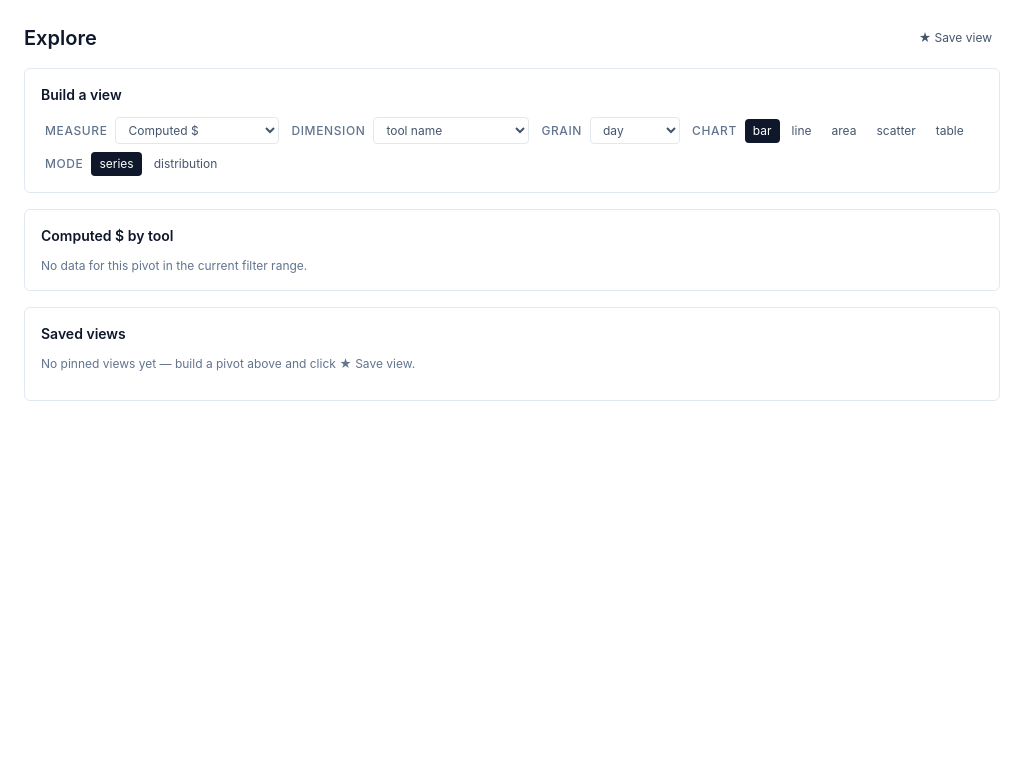
Test: Explore page › clicking Scatter reveals X/Y/Size pickers and posts a scatter query
Click the button with test id "xp-chart-scatter" at (896, 130), box [868,118,924,142]
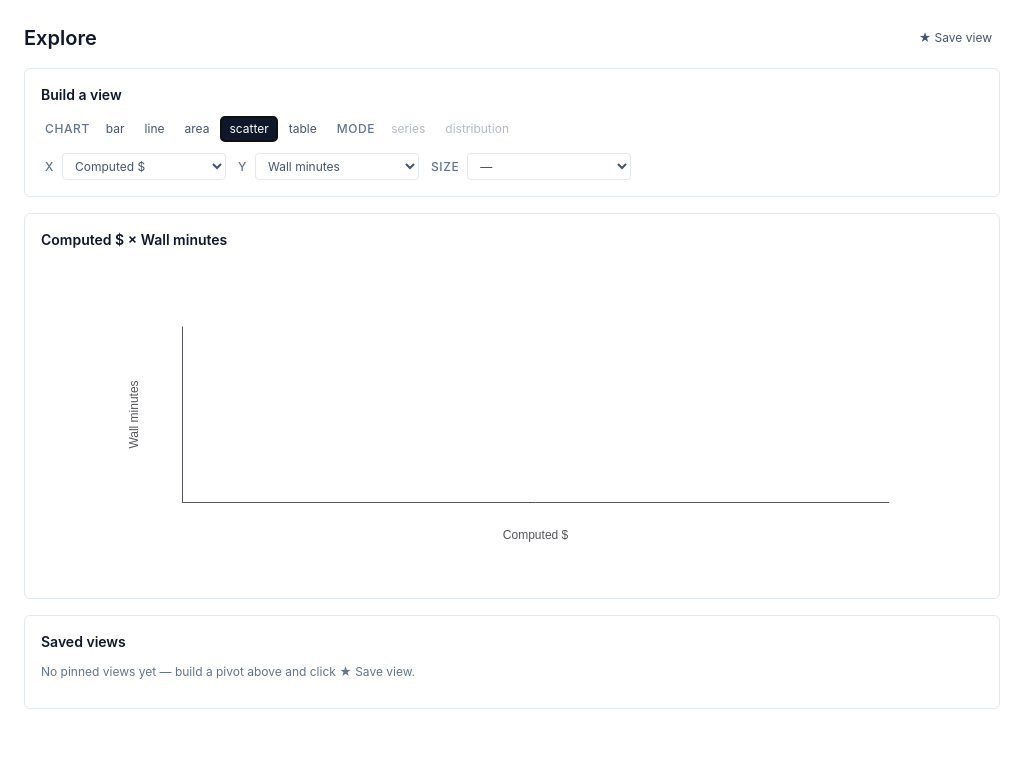
Check: the dropdown with test id "xp-x" is shown, box [62,153,226,180]
Check: the dropdown with test id "xp-y" is shown, box [255,153,419,180]
Check: the dropdown with test id "xp-size" is shown, box [467,153,631,180]
